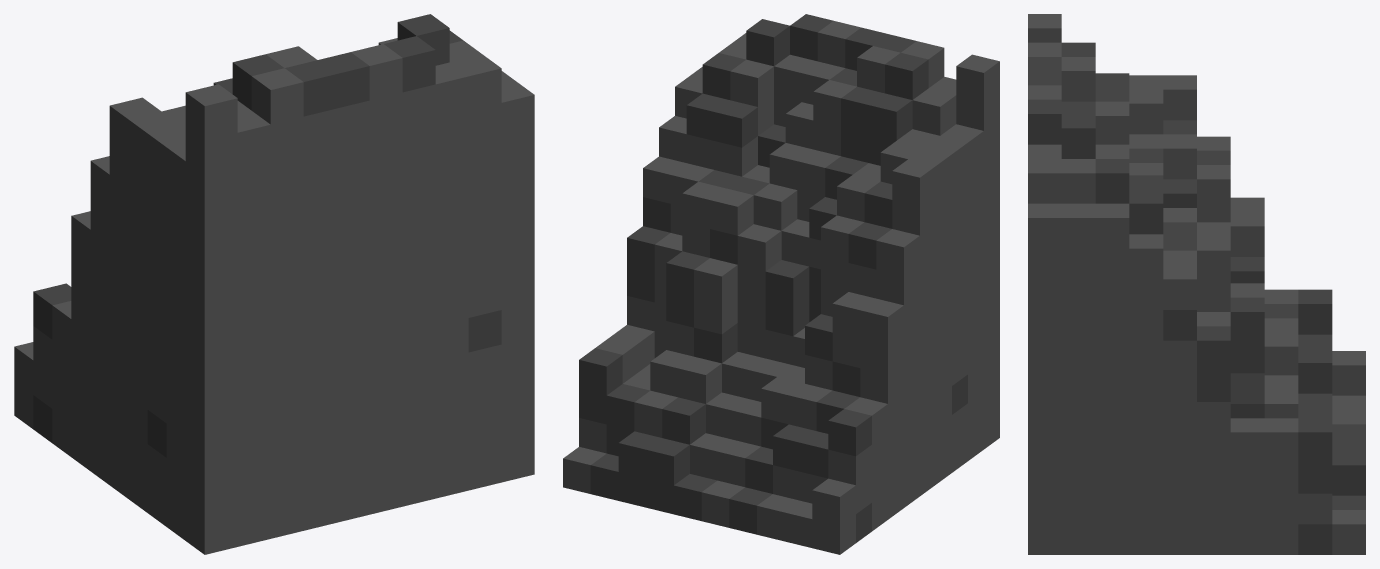
Rendered from Stein_Rand-ebene-04.obj.
The picture shows the model from 3 angles, left to right: view 1: azimuth 30°, elevation 25°; view 2: azimuth 150°, elevation 25°; view 3: azimuth 270°, elevation 25°; orthographic projection. The views are drawn at different scales.
Bounding box in the file's own units: 1 × 1.3 × 1.
1 material, 1 textured.
